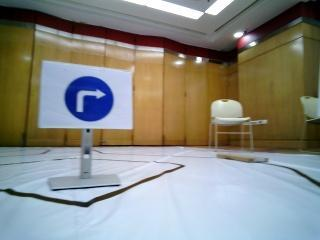right: (54, 65, 124, 129)
